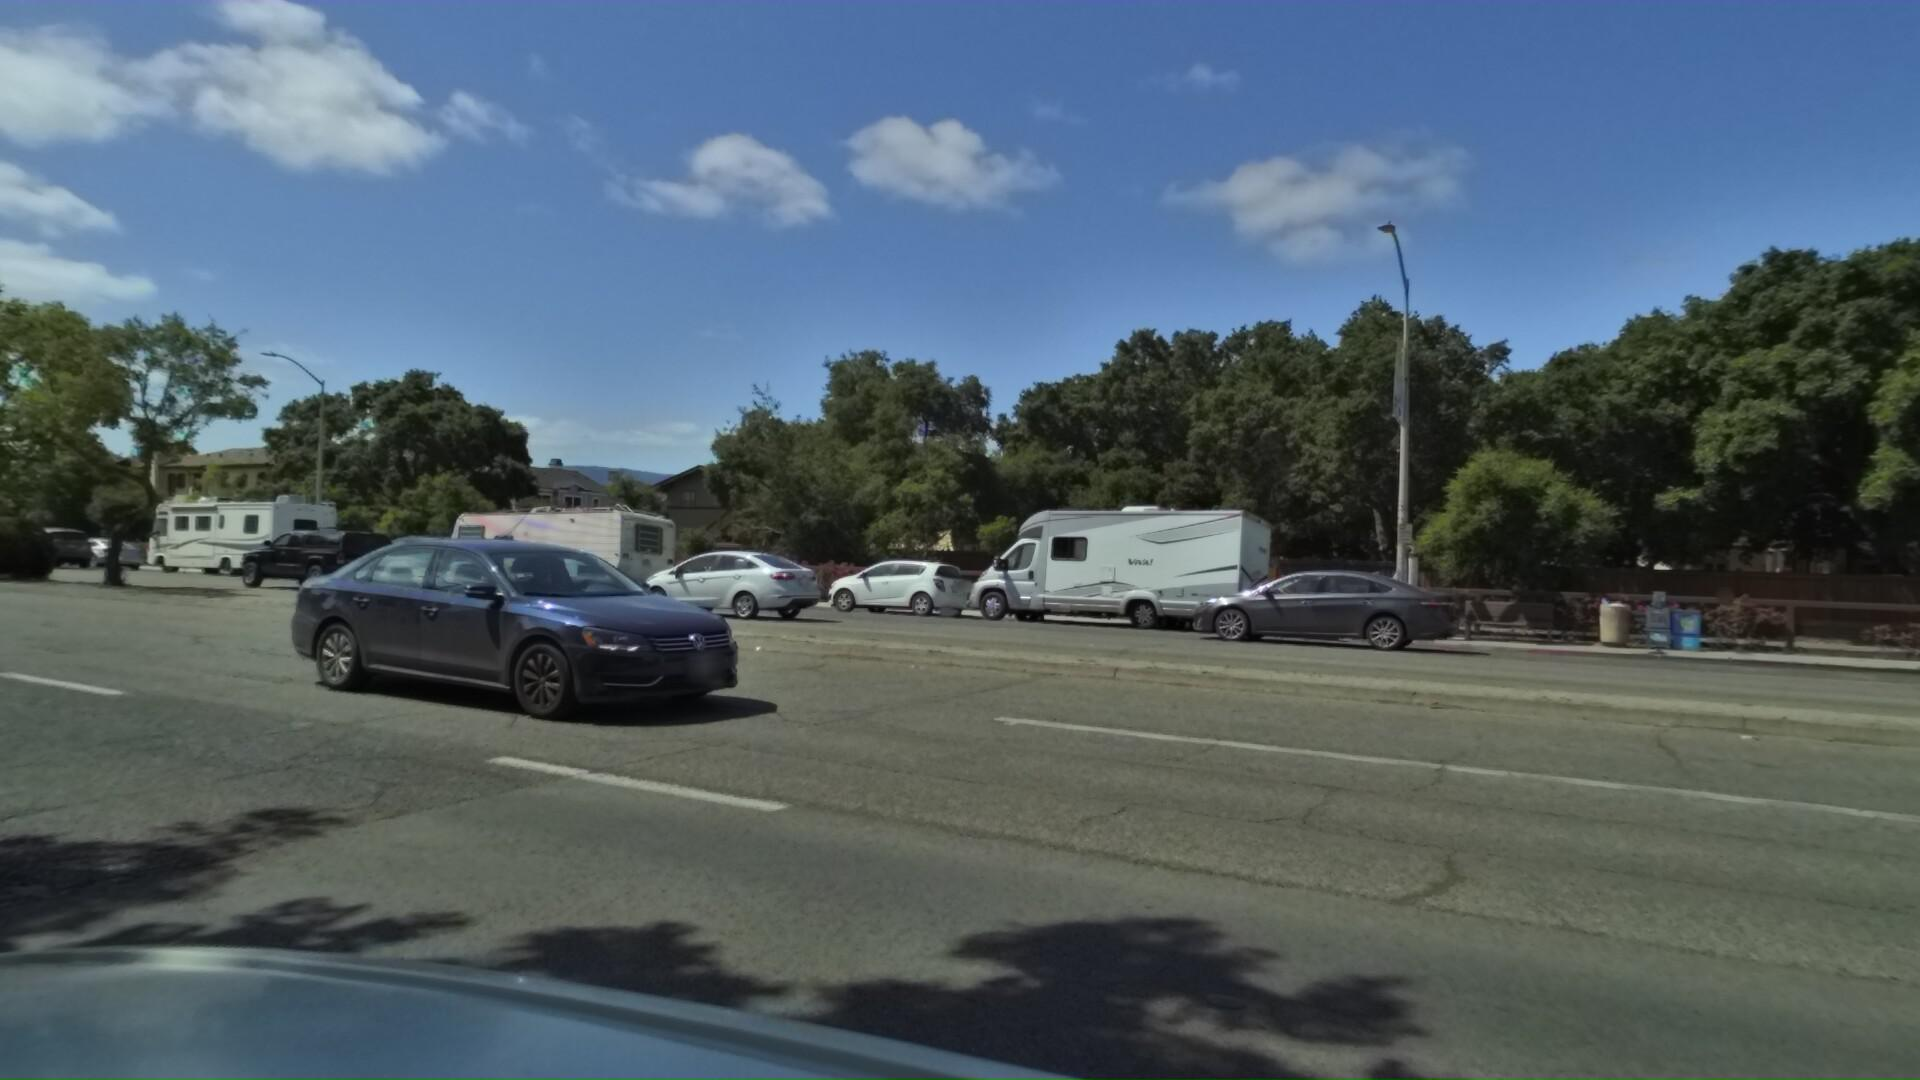car: (274, 520, 785, 738), (1158, 560, 1423, 654), (582, 542, 781, 620), (229, 521, 397, 595), (822, 551, 977, 618), (345, 531, 496, 593), (663, 550, 814, 611), (3, 522, 103, 562), (62, 533, 156, 574)
other_vehicle: (949, 495, 1278, 640), (440, 495, 690, 600), (144, 484, 349, 589)
